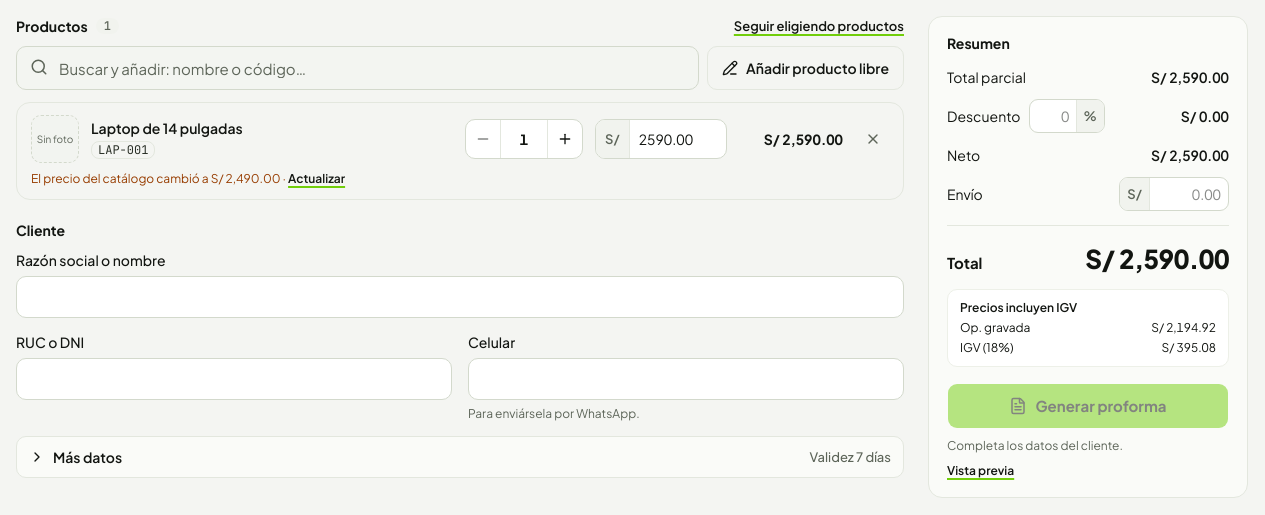
it: ProformaEditor › avisa si el precio del catálogo cambió y «Actualizar» lo aplica
The image size is (1265, 515).
Expected: the text "El precio del catálogo cambió a S/ 2,490.00 · Actualizar" is shown, [31, 171, 345, 187]
Click the button "Actualizar" at (317, 179), box [288, 171, 345, 187]
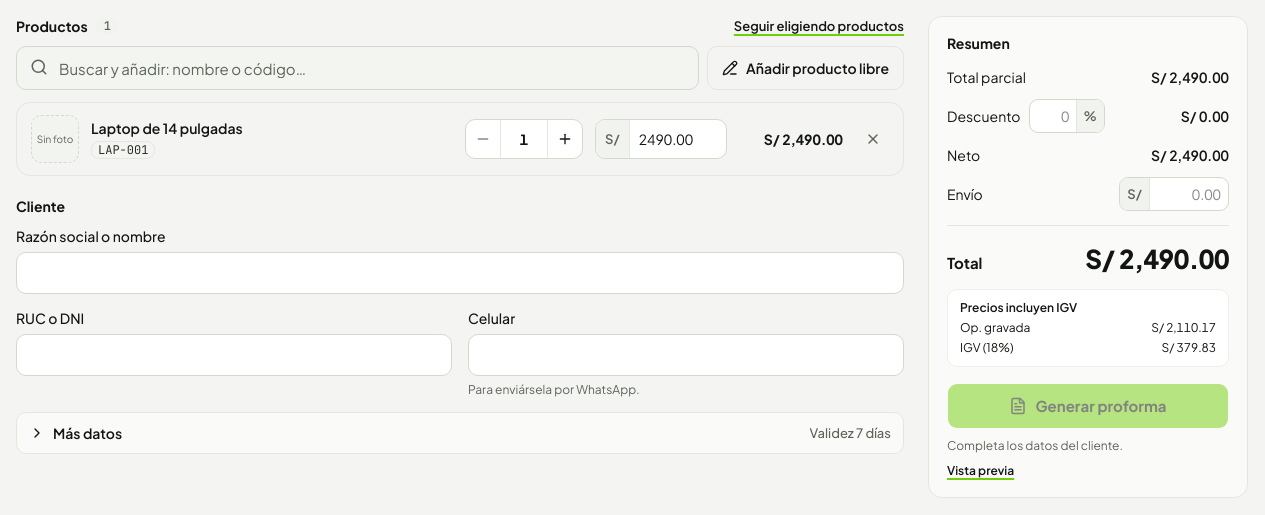
Now the text "El precio del catálogo cambió" is gone
